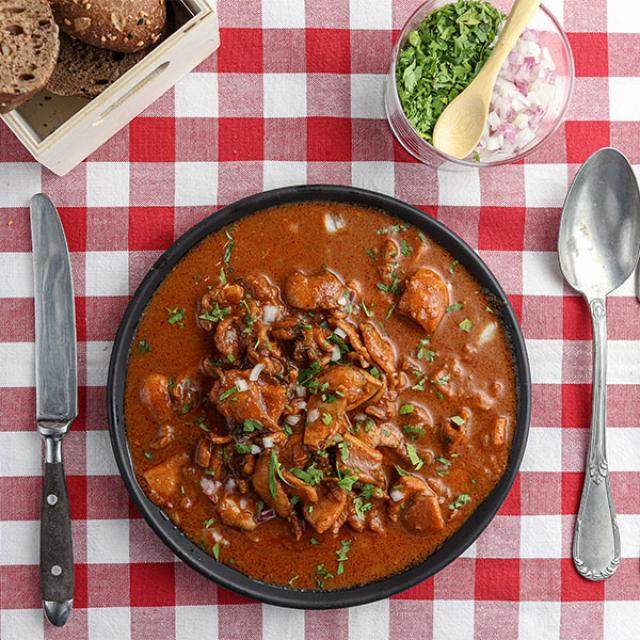kamouniya: (101, 200, 538, 614)
